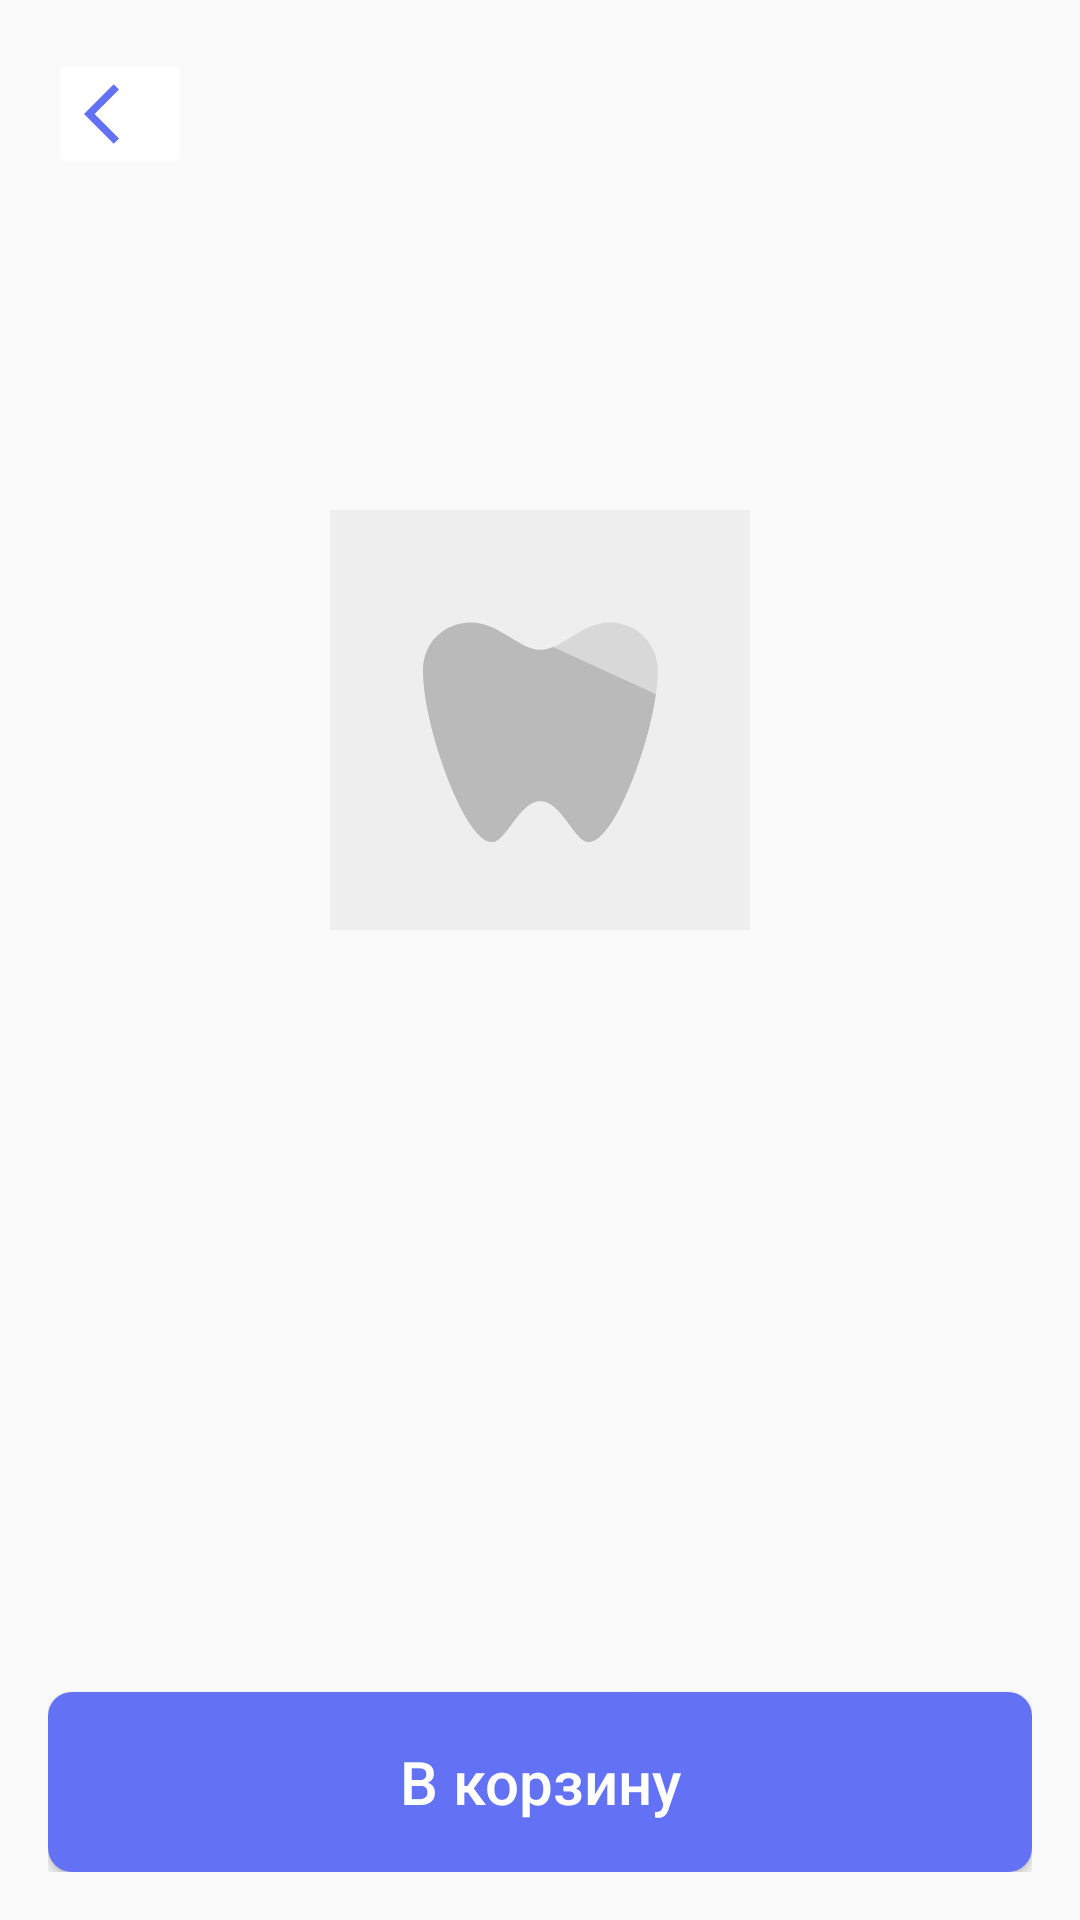

Where to tap for icons on this 1080*1920 app screen, as point (x, y):
Back: point (101, 114)
